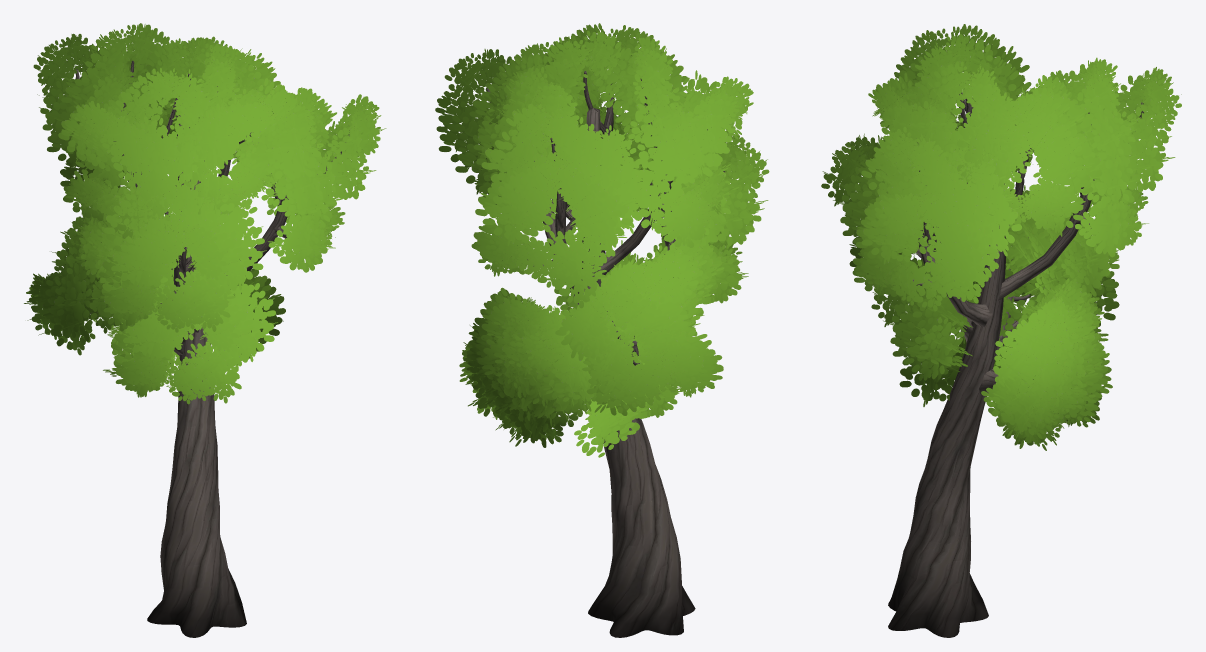
File: grove.glb
3 renders of one model, left to right at view 1: azimuth 30°, elevation 25°; view 2: azimuth 150°, elevation 25°; view 3: azimuth 270°, elevation 25°, orthographic. The views are drawn at different scales.
Parts seen in each view (by area): view 1: TwistedTree_5; view 2: TwistedTree_5; view 3: TwistedTree_5.
Boxes of the visible parts, x1,y1,x2,y2 form: TwistedTree_5: (24, 23, 386, 637); TwistedTree_5: (435, 23, 769, 637); TwistedTree_5: (821, 24, 1181, 637).
Size of the model in its own units: 18.88 by 31.15 by 18.67.
Materials: 2 (2 with a texture image).
